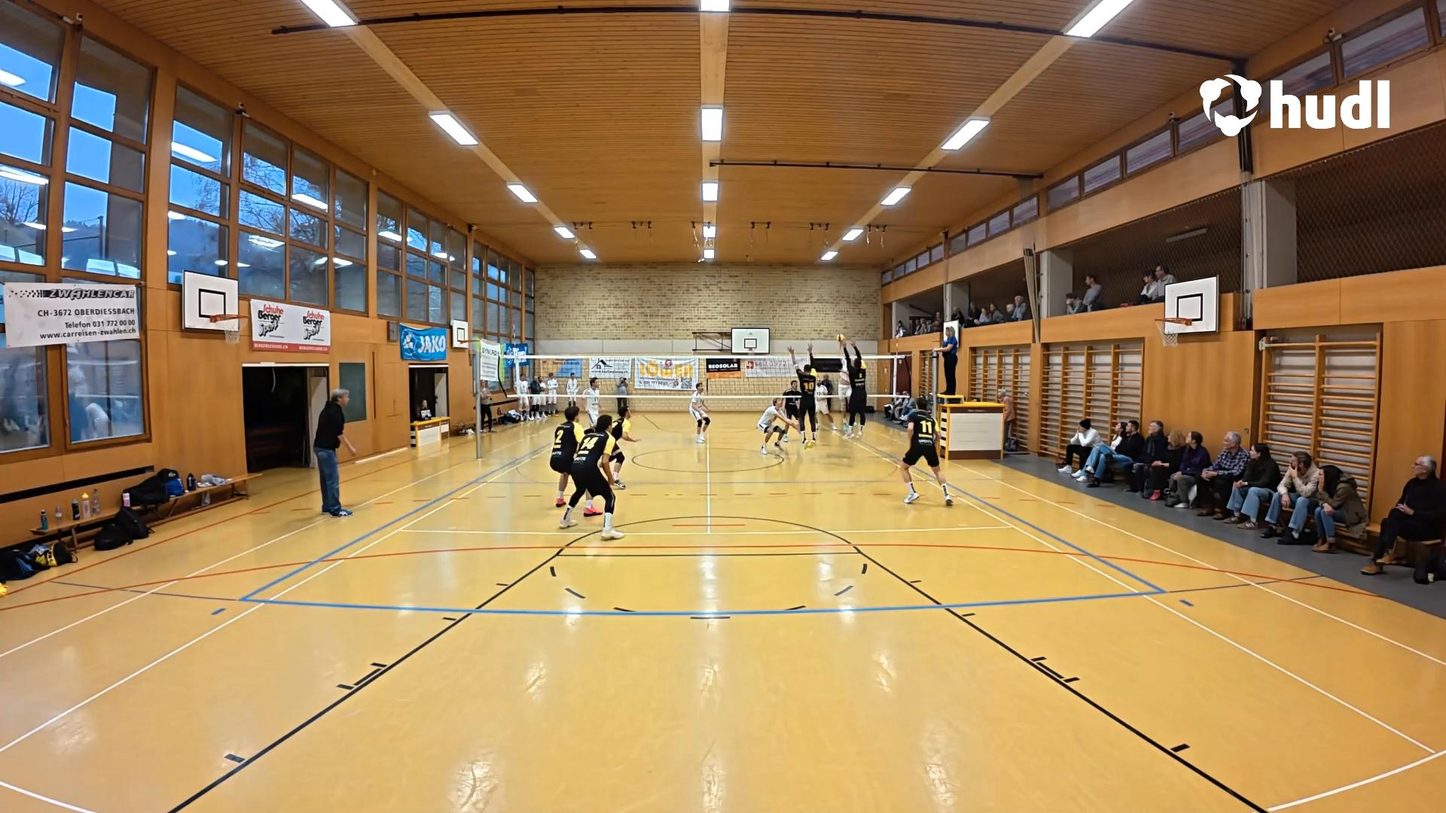Attack: (831, 331, 856, 434)
Block: (829, 333, 870, 445), (791, 339, 822, 447)
Player: (562, 412, 623, 538), (899, 393, 954, 506), (550, 407, 588, 514), (605, 391, 634, 469), (755, 396, 787, 460), (689, 379, 713, 443), (779, 370, 803, 424), (810, 373, 831, 427), (586, 374, 601, 424)
ball: (832, 331, 847, 345)
